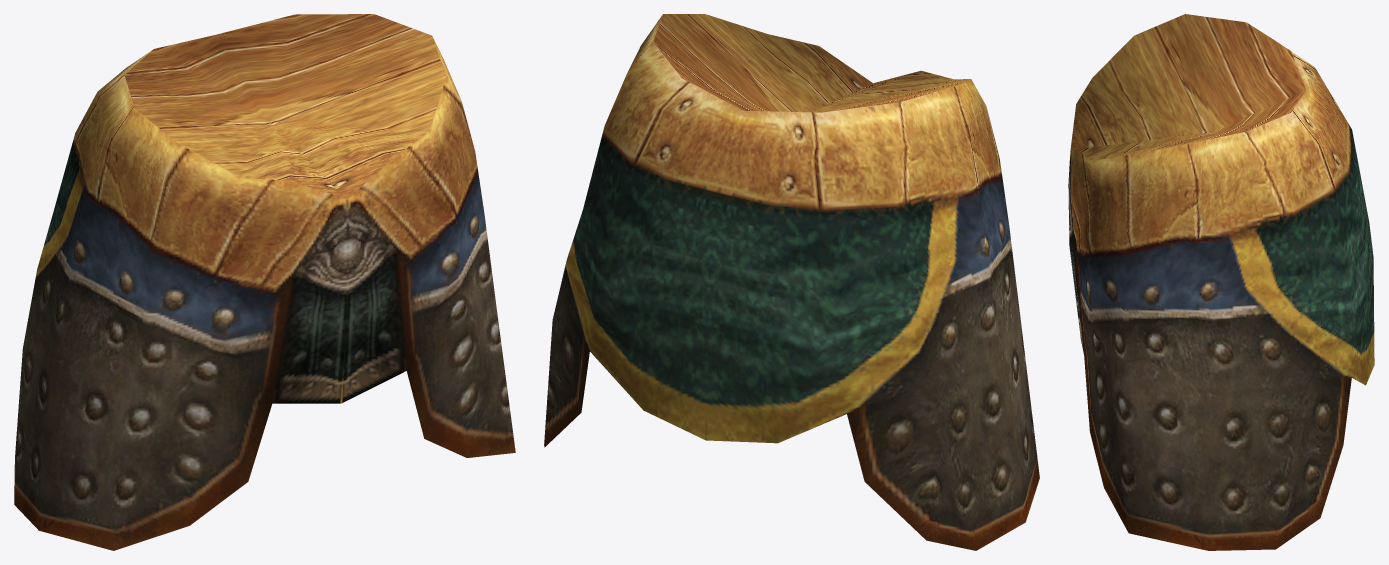
3 renders of one model, left to right at view 1: azimuth 30°, elevation 25°; view 2: azimuth 150°, elevation 25°; view 3: azimuth 270°, elevation 25°, orthographic. The views are drawn at different scales.
Parts seen in each view (by area): view 1: Light_01_la; view 2: Light_01_la; view 3: Light_01_la.
Boxes of the visible parts, x1,y1,x2,y2 form: Light_01_la: (14,14,515,550); Light_01_la: (544,14,1039,550); Light_01_la: (1068,14,1374,550).
Size of the model in its own units: 0.4041 by 0.3499 by 0.2577.
Materials: 1 (1 with a texture image).
